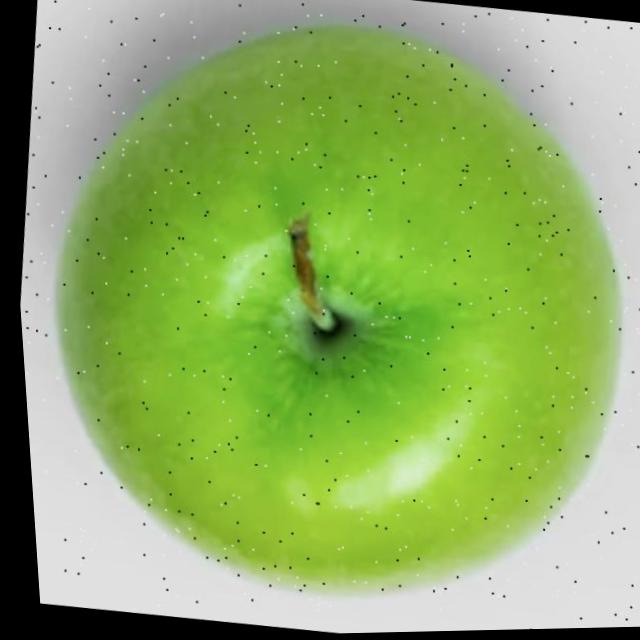Apple: (2, 0, 640, 638)
